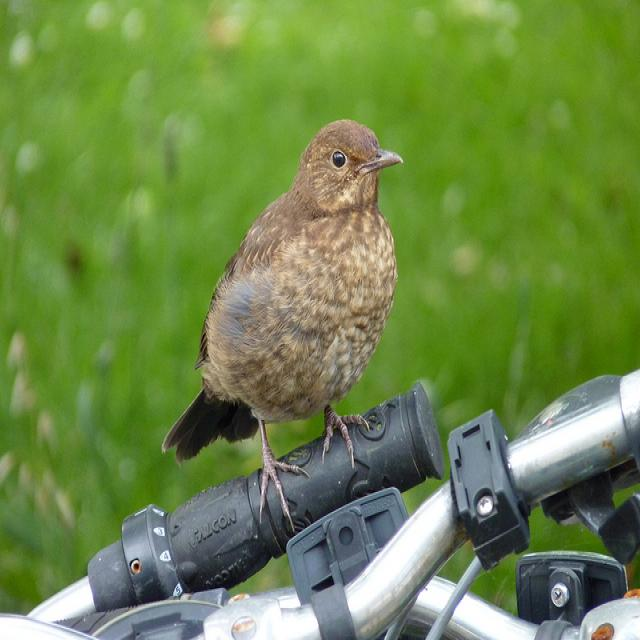motor: (0, 364, 640, 633)
